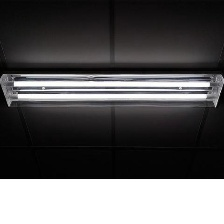light_bulb: (1, 89, 218, 105), (3, 75, 222, 90)
